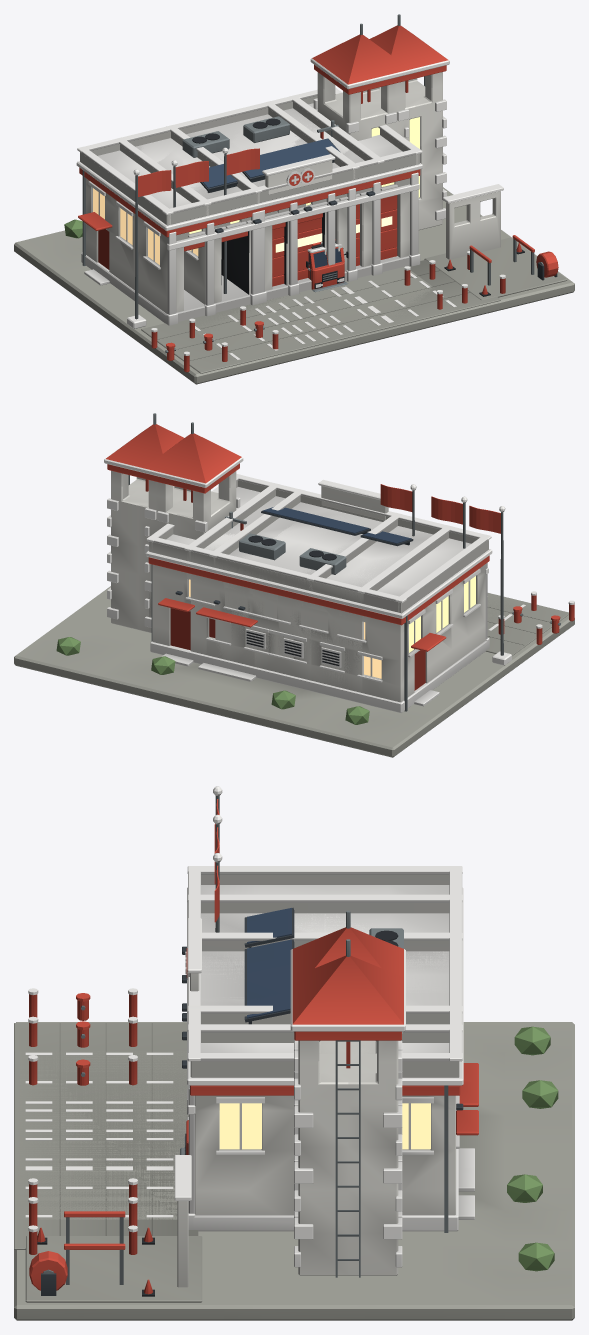
File: fire-station.glb
3 views of the same model, one above another, from view 1: azimuth 30°, elevation 25°; view 2: azimuth 150°, elevation 25°; view 3: azimuth 270°, elevation 25° (orthographic). The views are drawn at different scales.
Visible parts, largest first — view 1: Station3, Station2, Station1, Engine, Station1.Flag.0, Station3.Flag.0, Station2.Flag.0; view 2: Station3, Station1, Station2, Station1.Flag.0, Station2.Flag.0, Station3.Flag.0; view 3: Station3, Station1, Station2.
Boxes of the visible parts, x1,y1,x2,y2 form: Station3: (76,14,567,373); Station2: (116,23,467,364); Station1: (14,101,574,384); Engine: (306,239,348,292); Station1.Flag.0: (226,148,259,175); Station3.Flag.0: (138,170,171,196); Station2.Flag.0: (175,161,208,187); Station3: (104,413,574,712); Station1: (14,479,574,757); Station2: (142,422,536,703); Station1.Flag.0: (380,484,412,511); Station2.Flag.0: (431,496,462,524); Station3.Flag.0: (469,505,500,533); Station3: (14,786,478,1302); Station1: (14,853,574,1320); Station2: (14,814,478,1225).
Bounding box in the file's own units: 17.92 × 9.5 × 14.6.
